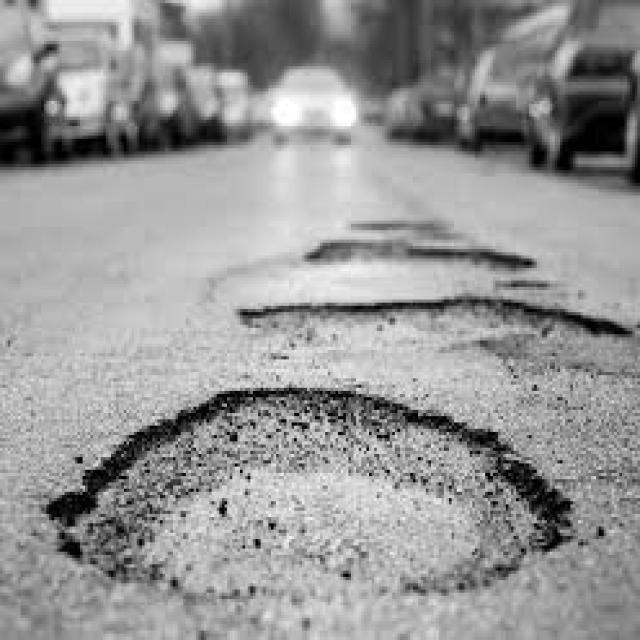Pothole: (44, 388, 575, 596), (237, 300, 630, 334), (305, 224, 537, 268)
